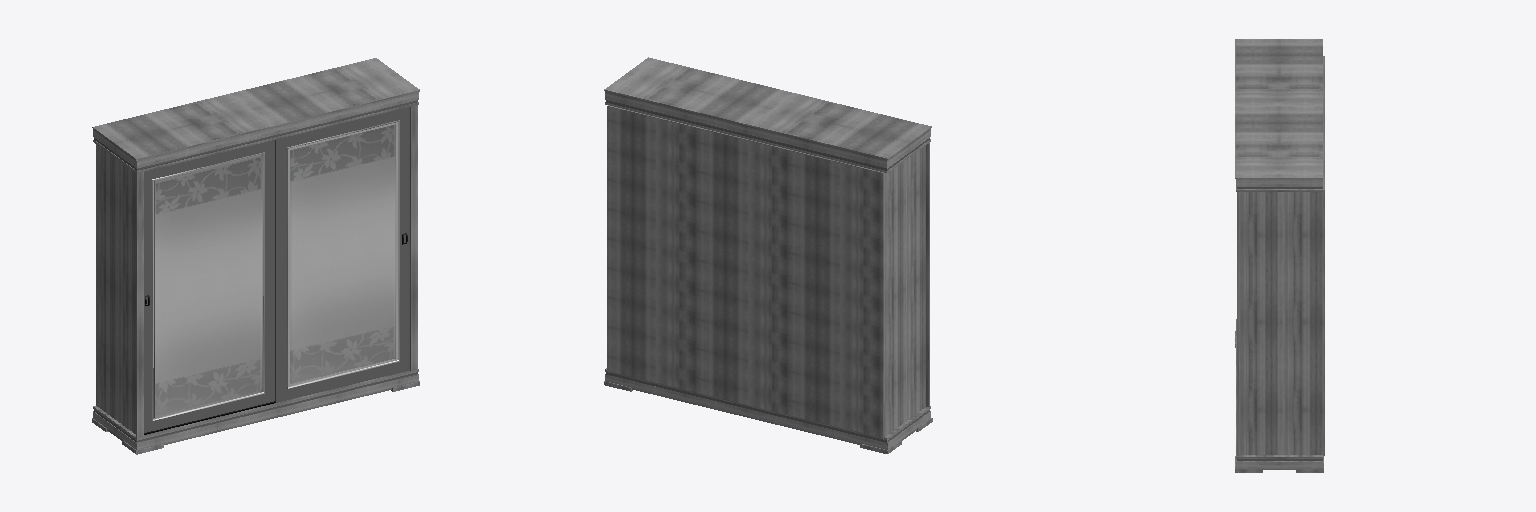
3 views of the same model, side by side, from view 1: azimuth 30°, elevation 25°; view 2: azimuth 150°, elevation 25°; view 3: azimuth 270°, elevation 25° (orthographic).
Visible parts, largest first — view 1: solid_001, solid_002, solid_008, solid_007, solid_006, solid_003; view 2: solid_002, solid_003; view 3: solid_002.
Boxes of the visible parts, box(x1,y1,x2,y2) form: solid_001: box(154, 124, 395, 417); solid_002: box(92, 58, 419, 454); solid_008: box(144, 107, 409, 432); solid_007: box(152, 120, 399, 420); solid_006: box(153, 122, 397, 418); solid_003: box(94, 100, 417, 442); solid_002: box(604, 57, 932, 453); solid_003: box(606, 100, 929, 442); solid_002: box(1235, 39, 1324, 472).
Bounding box in the file's own units: 1.34 × 1.33 × 0.3674.
1 materials, 1 textured.